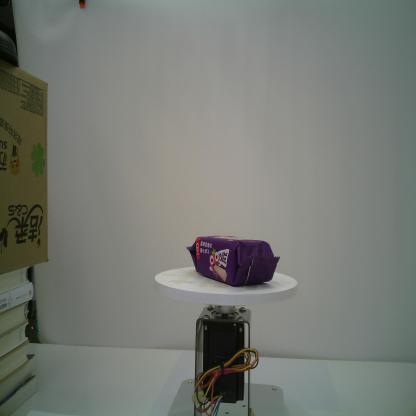Dessert: (184, 235, 281, 288)
